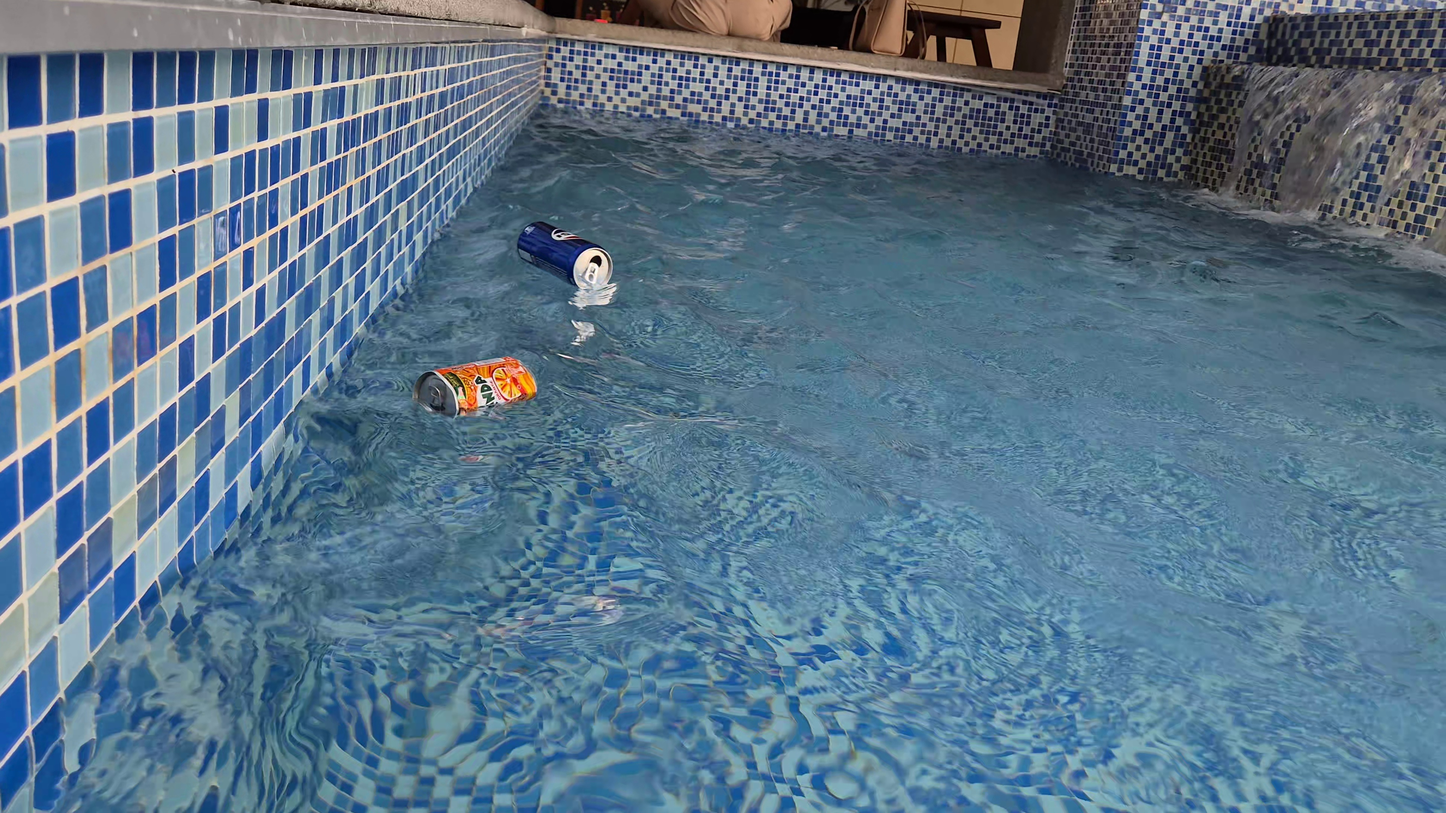debris: (413, 346, 541, 425), (511, 212, 618, 300)
